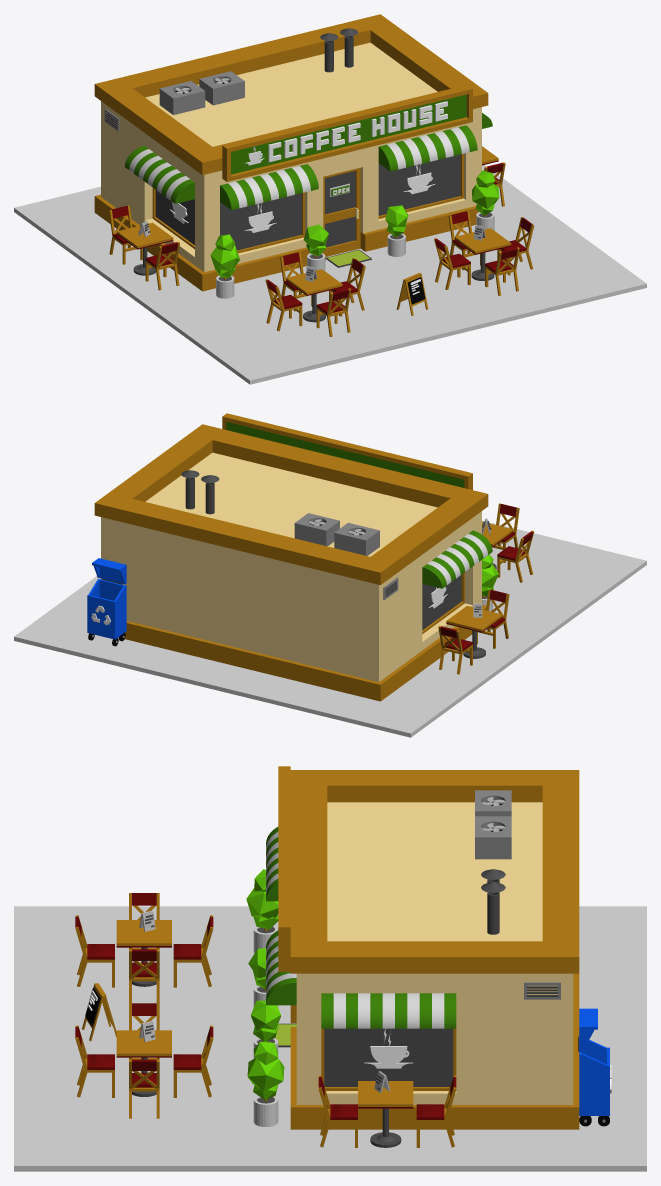
Rendered from coffee house.glb.
3 views of the same model, one above another, from view 1: azimuth 30°, elevation 25°; view 2: azimuth 150°, elevation 25°; view 3: azimuth 270°, elevation 25° (orthographic). The views are drawn at different scales.
Visible parts, largest first — view 1: box (×27), icosahedron; view 2: box (×20); view 3: box (×21), icosahedron (×3), quarterCylinder, annulus.
Part boxes in pixels (box(x1,y1,x2,y2)): box (×27): box(14, 14, 646, 384); icosahedron: box(210, 245, 239, 271); box (×20): box(14, 413, 646, 737); box (×21): box(14, 766, 646, 1171); icosahedron (×3): box(246, 888, 284, 1091); quarterCylinder: box(266, 978, 296, 1005); annulus: box(253, 1095, 278, 1126).
Bounding box in the file's own units: 100 × 38 × 103.
